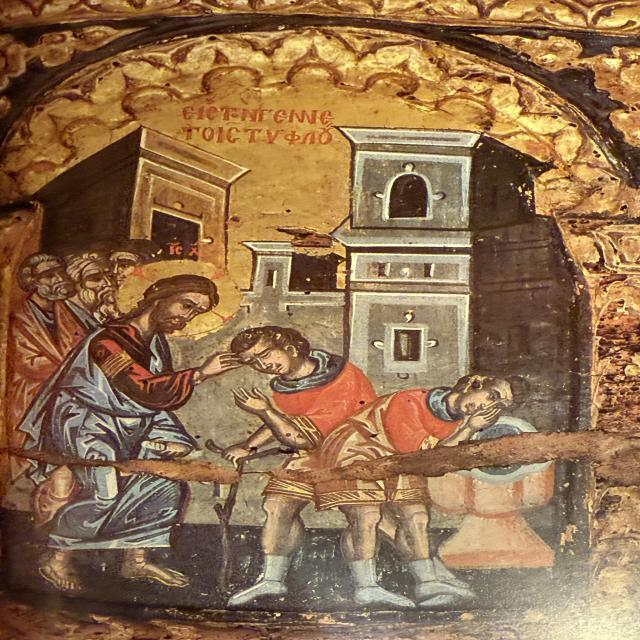aura: (107, 258, 245, 341)
christ: (1, 257, 246, 597)
person: (311, 373, 531, 603), (230, 325, 396, 610)
